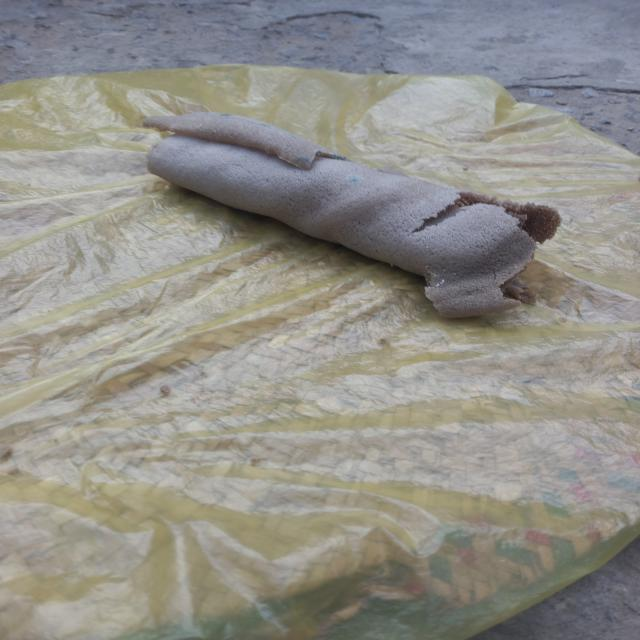injera_mold: (428, 270, 447, 289), (294, 155, 314, 166), (215, 112, 232, 121), (328, 152, 344, 160), (348, 175, 359, 184), (257, 121, 267, 128)
